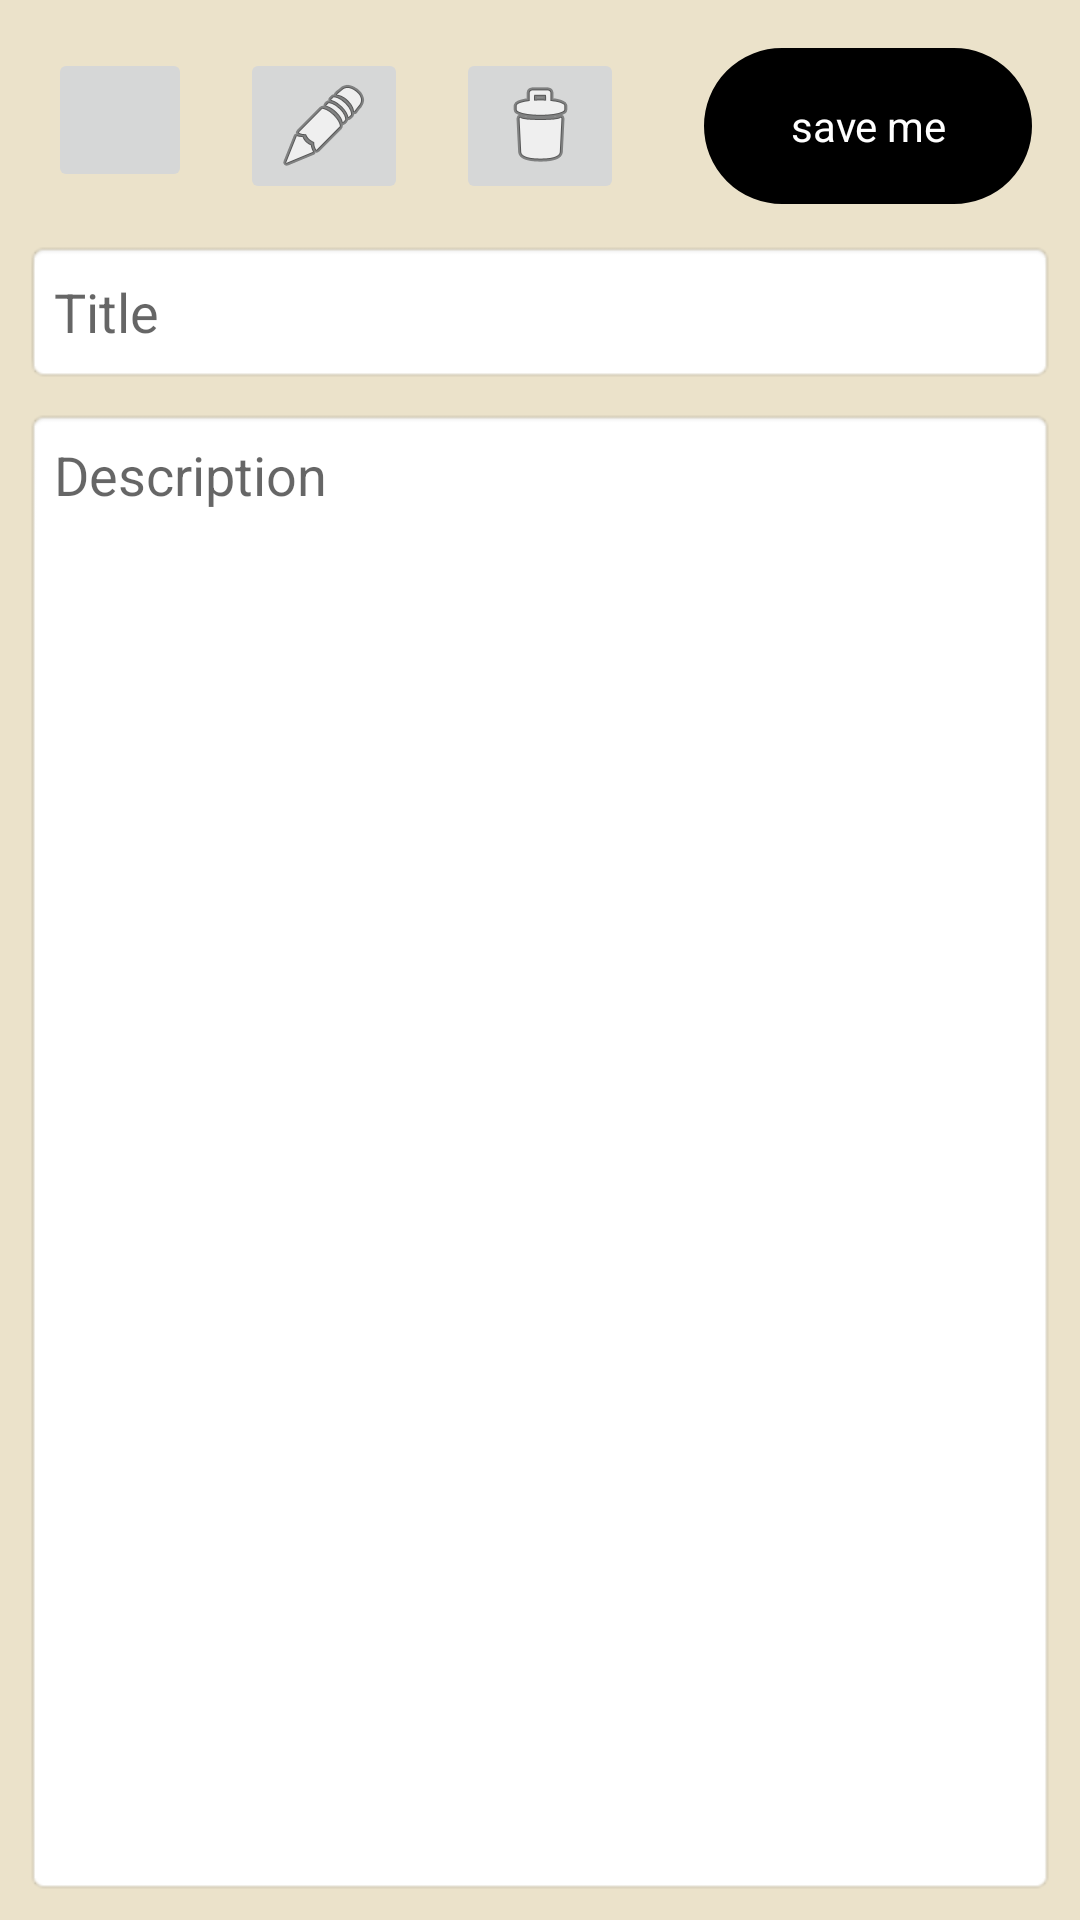

Named icons in this screenshot (1080*1920) and their bounding boxes, (x1, y1, x2, y2):
delete: (513, 87, 568, 162)
edit: (252, 66, 396, 186)
